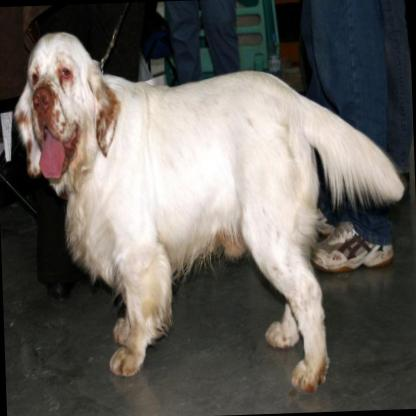clumber: (8, 17, 412, 401)
